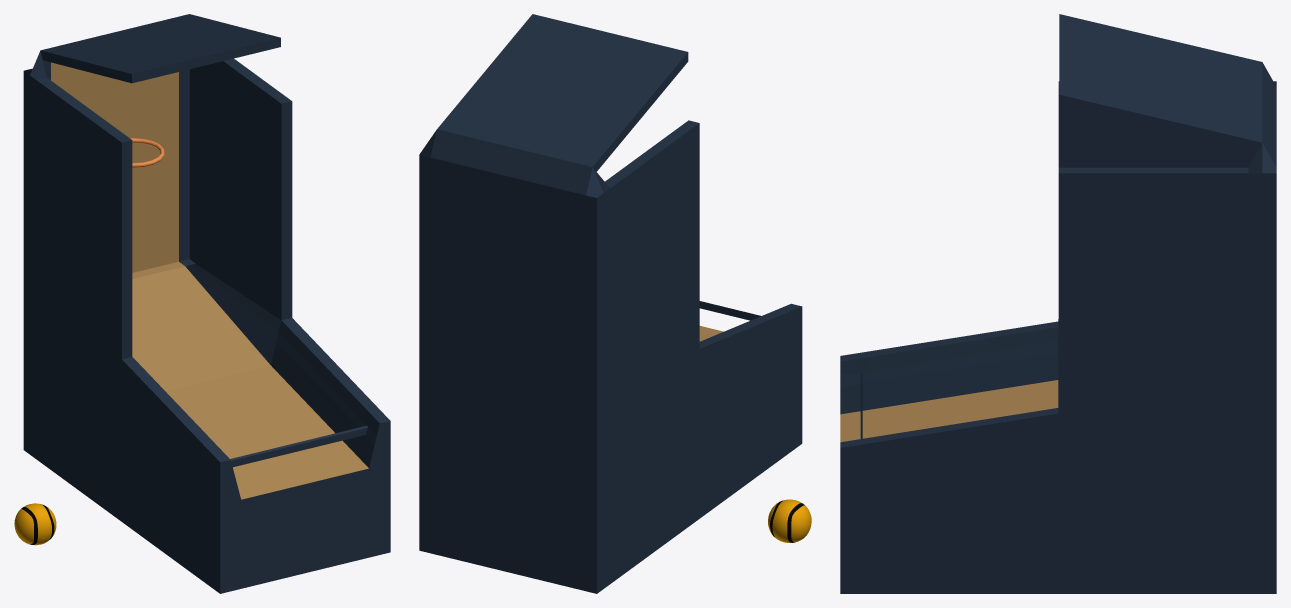
File: ArcadeBallMachine.fbx
3 views of the same model, side by side, from view 1: azimuth 30°, elevation 25°; view 2: azimuth 150°, elevation 25°; view 3: azimuth 270°, elevation 25° (orthographic). The views are drawn at different scales.
Visible parts, largest first — view 1: Machine, Ball; view 2: Machine, Ball; view 3: Machine.
Boxes of the visible parts, <box> form: Machine: <box>23,14,390,593</box>; Ball: <box>14,503,56,545</box>; Machine: <box>419,14,802,593</box>; Ball: <box>768,499,811,542</box>; Machine: <box>840,14,1276,593</box>.
Bounding box in the file's own units: 1290 × 1998 × 1600.
